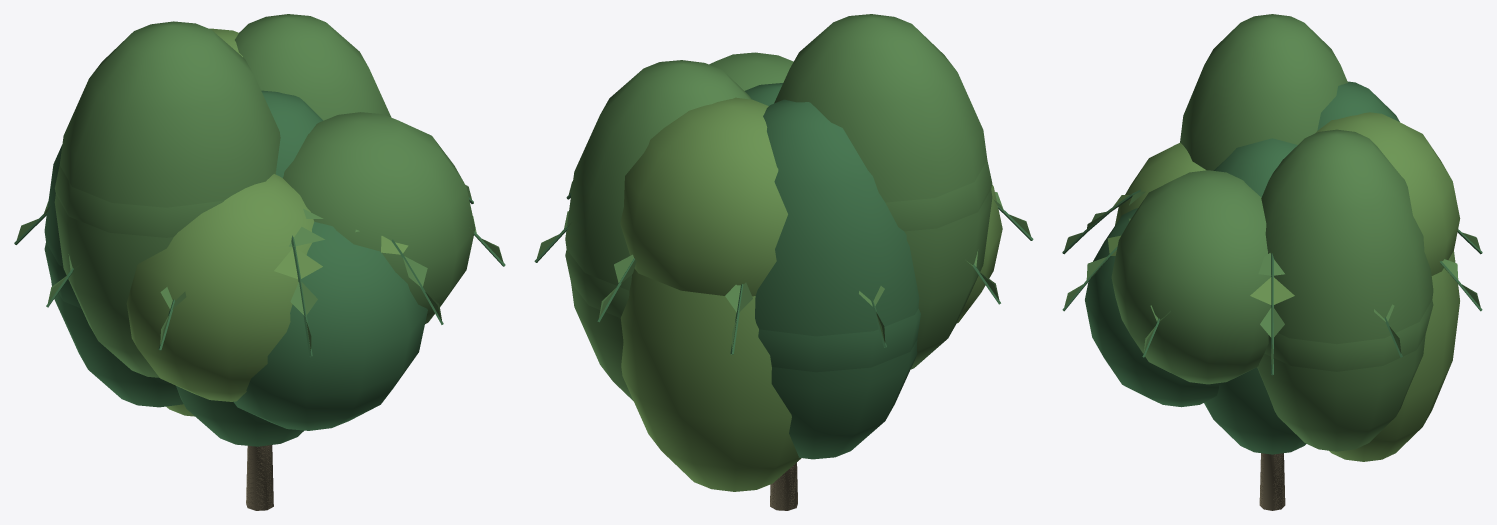
The model's file is trees-near.glb.
3 renders of one model, left to right at view 1: azimuth 30°, elevation 25°; view 2: azimuth 150°, elevation 25°; view 3: azimuth 270°, elevation 25°, orthographic. The views are drawn at different scales.
Visible parts, largest first — view 1: Tree-template-0, Tree-template-1, Tree-template-2; view 2: Tree-template-1, Tree-template-0, Tree-template-2; view 3: Tree-template-1, Tree-template-0, Tree-template-2.
Boxes of the visible parts, <box> form: Tree-template-0: <box>44,28,475,510</box>; Tree-template-1: <box>44,14,391,446</box>; Tree-template-2: <box>14,185,505,510</box>; Tree-template-1: <box>565,14,992,491</box>; Tree-template-0: <box>565,52,1002,510</box>; Tree-template-2: <box>534,181,1033,510</box>; Tree-template-1: <box>1180,14,1459,461</box>; Tree-template-0: <box>1085,112,1460,510</box>; Tree-template-2: <box>1062,189,1482,509</box>.
Size of the model in its own units: 8.24 by 9.21 by 7.84.
